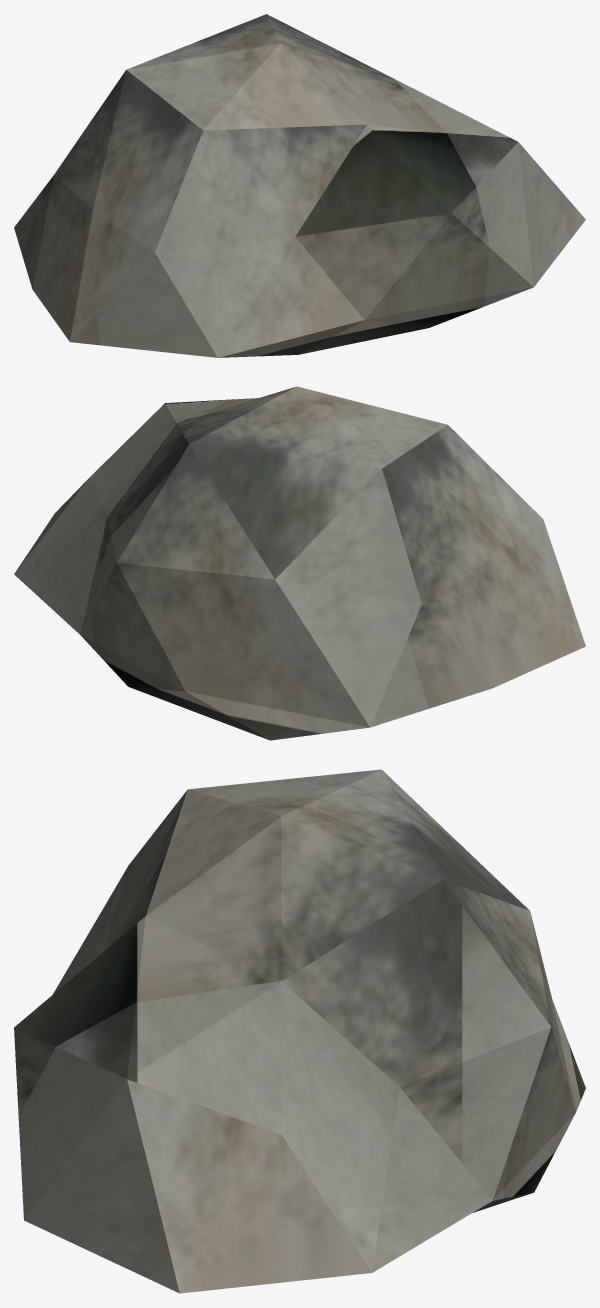
File: terrain3_rock_0.glb
3 views of the same model, one above another, from view 1: azimuth 30°, elevation 25°; view 2: azimuth 150°, elevation 25°; view 3: azimuth 270°, elevation 25° (orthographic). The views are drawn at different scales.
Visible parts, largest first — view 1: terrain3_rock_0.glb; view 2: terrain3_rock_0.glb; view 3: terrain3_rock_0.glb.
Boxes of the visible parts, x1=… form: terrain3_rock_0.glb: x1=14, y1=14, x2=585, y2=357; terrain3_rock_0.glb: x1=14, y1=386, x2=585, y2=740; terrain3_rock_0.glb: x1=14, y1=769, x2=585, y2=1293.
Size of the model in its own units: 5.54 by 2.46 by 3.88.
1 material, 1 textured.
